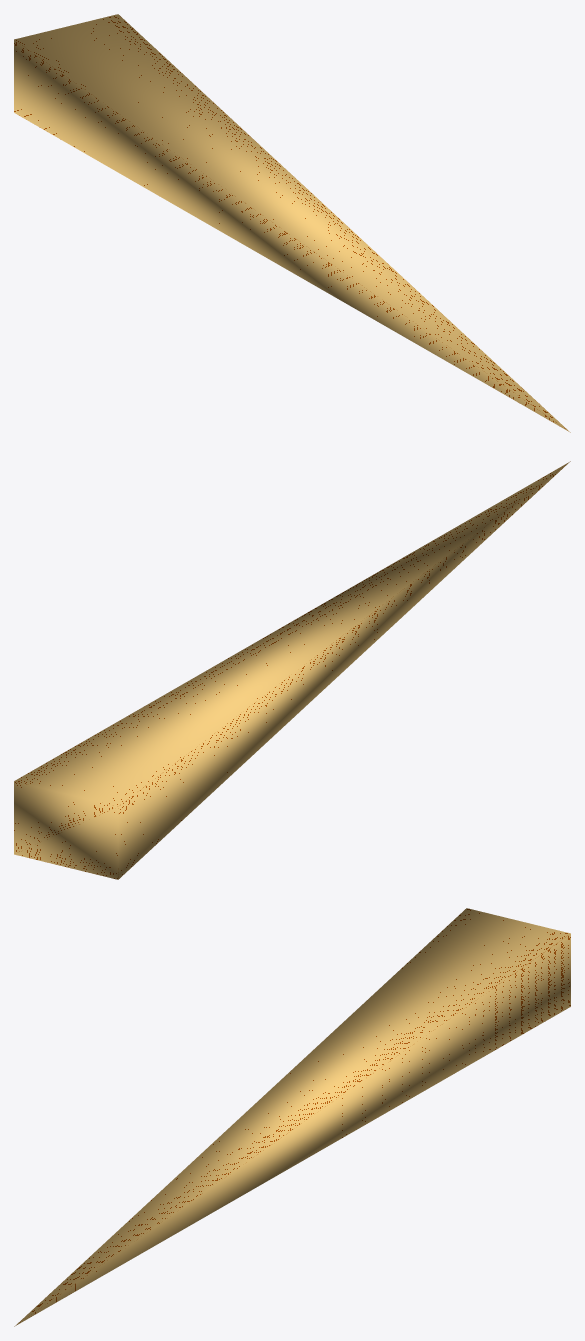
File: 2741hasi.gltf
3 views of the same model, one above another, from view 1: azimuth 30°, elevation 25°; view 2: azimuth 150°, elevation 25°; view 3: azimuth 330°, elevation 25° (orthographic).
Parts seen in each view (by area): view 1: 2741hasi; view 2: 2741hasi; view 3: 2741hasi.
Part boxes in pixels (box(x1,y1,x2,y2)): 2741hasi: box(14, 14, 570, 432); 2741hasi: box(14, 461, 570, 879); 2741hasi: box(14, 908, 570, 1326).
Size of the model in its own units: 0.0415 by 0.0278 by 0.3479.
Materials: 1 (1 with a texture image).
